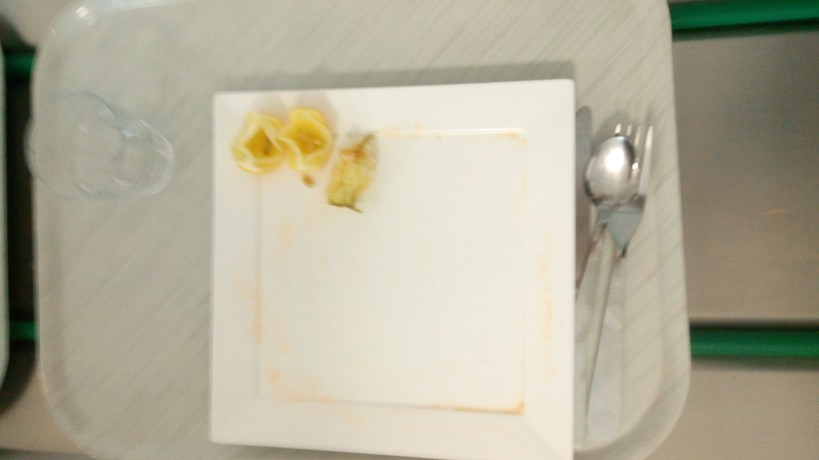cutlery: (559, 107, 679, 447)
orga: (230, 107, 381, 220)
